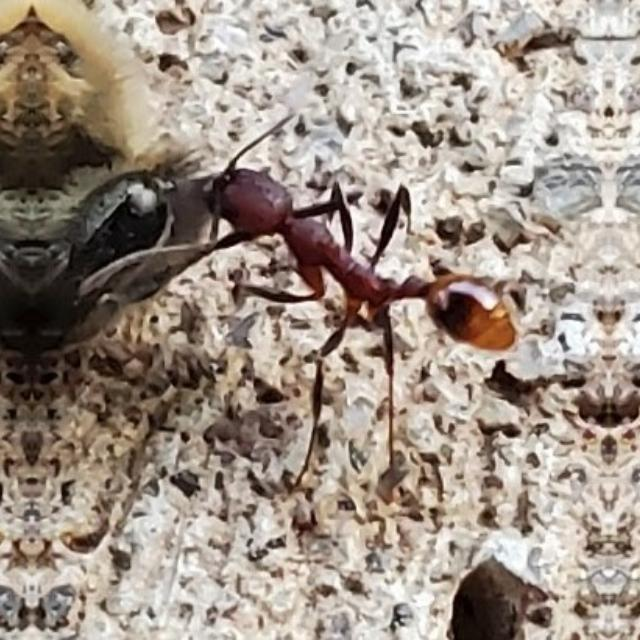Apheanogaster: (183, 134, 543, 386)
